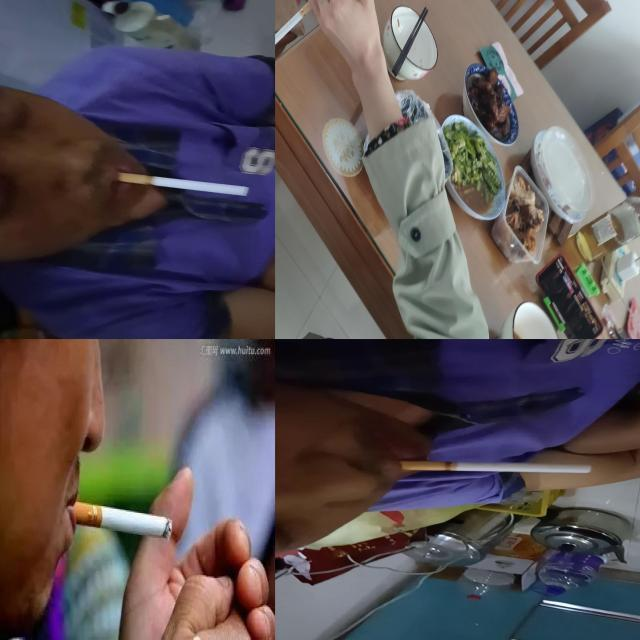rokok: (70, 502, 174, 540), (114, 170, 252, 198), (400, 461, 592, 474), (275, 0, 315, 52)
